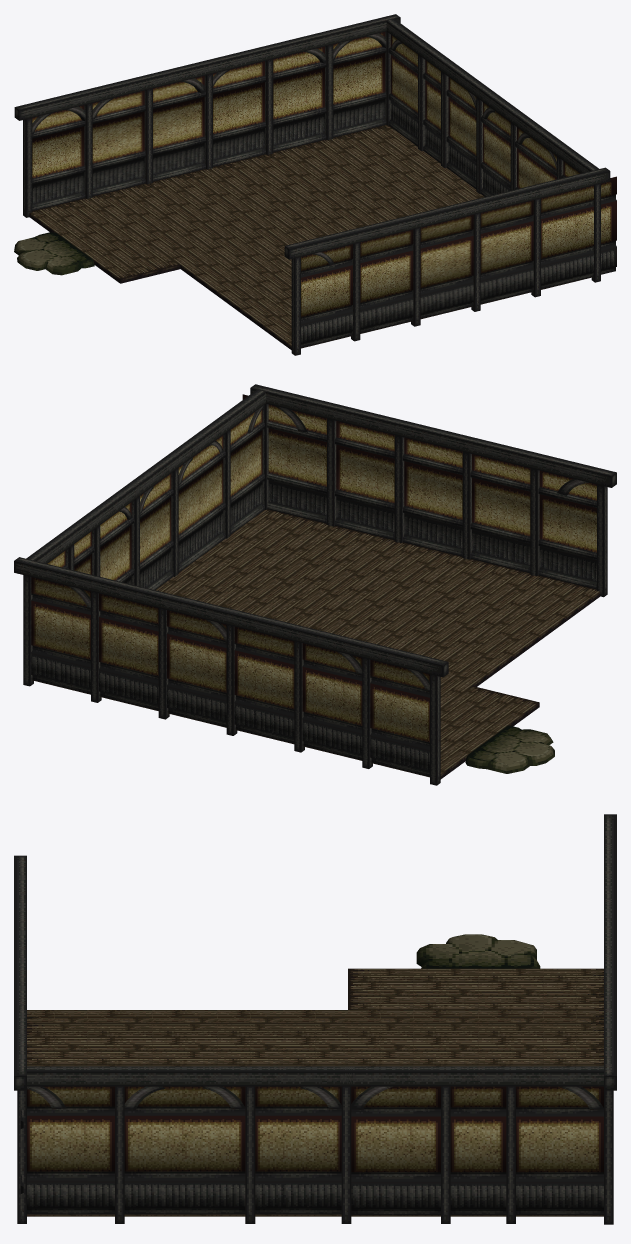
Rendered from EnvBdgMD_Forest_A_Indoor_House_G.fbx.
The picture shows the model from 3 angles, top to bottom: view 1: azimuth 30°, elevation 25°; view 2: azimuth 150°, elevation 25°; view 3: azimuth 270°, elevation 25°; orthographic projection. The views are drawn at different scales.
Visible parts, largest first — view 1: EnvBdgMD_Forest_A_Indoor_House_G; view 2: EnvBdgMD_Forest_A_Indoor_House_G; view 3: EnvBdgMD_Forest_A_Indoor_House_G.
Part boxes in pixels (bbox=[...]): EnvBdgMD_Forest_A_Indoor_House_G: bbox=[14, 14, 616, 355]; EnvBdgMD_Forest_A_Indoor_House_G: bbox=[14, 384, 616, 785]; EnvBdgMD_Forest_A_Indoor_House_G: bbox=[14, 814, 616, 1224].
Bounding box in the file's own units: 2165 × 525 × 1850.
